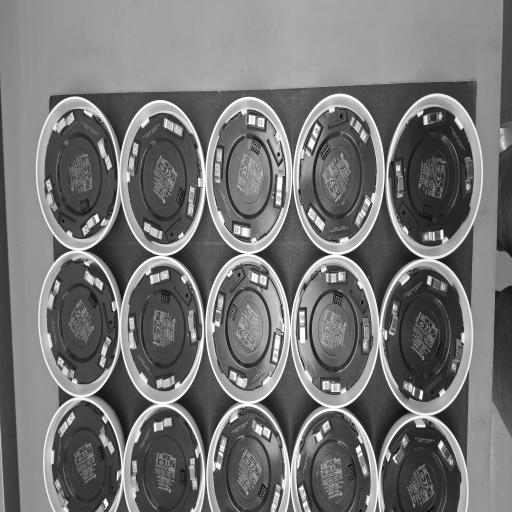yayli: (303, 120, 323, 158), (391, 433, 411, 466), (356, 194, 372, 232), (437, 438, 456, 470), (306, 205, 326, 235), (251, 417, 272, 443), (350, 116, 368, 146), (450, 338, 464, 376), (99, 424, 116, 455), (310, 419, 330, 445), (58, 411, 76, 438), (270, 329, 283, 366), (81, 214, 101, 238), (392, 160, 404, 200), (98, 138, 112, 172), (128, 142, 140, 181), (98, 336, 112, 369), (84, 269, 103, 293), (45, 178, 58, 213), (54, 478, 69, 508), (47, 279, 61, 311), (388, 300, 400, 337), (356, 444, 369, 478), (248, 266, 268, 288), (402, 380, 424, 400), (55, 112, 74, 135), (57, 356, 75, 380), (216, 436, 228, 472), (213, 294, 225, 329), (273, 174, 285, 209), (426, 274, 448, 293), (298, 483, 312, 512), (143, 220, 163, 240), (163, 118, 183, 138), (228, 368, 247, 389), (245, 111, 265, 130), (149, 268, 170, 286), (423, 111, 444, 129), (187, 310, 198, 344), (421, 229, 444, 245), (232, 222, 252, 240), (464, 157, 473, 196), (298, 307, 307, 346), (270, 483, 282, 512), (187, 185, 197, 219), (362, 317, 371, 354), (156, 374, 176, 390), (214, 148, 223, 183), (326, 269, 346, 284), (321, 379, 341, 394), (128, 316, 137, 349), (189, 458, 198, 490), (154, 416, 172, 432), (131, 460, 139, 494), (94, 497, 108, 512)
